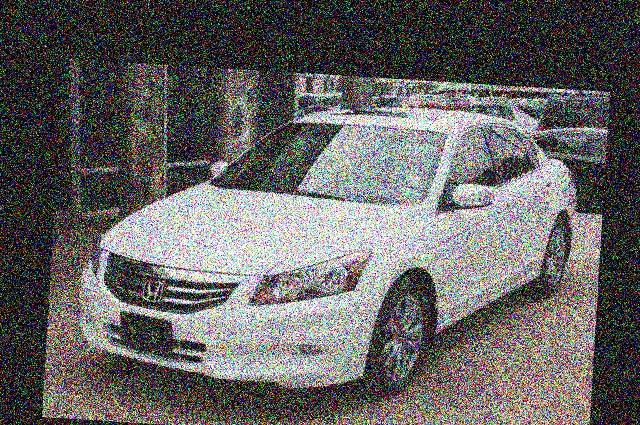car: (59, 84, 592, 425)
